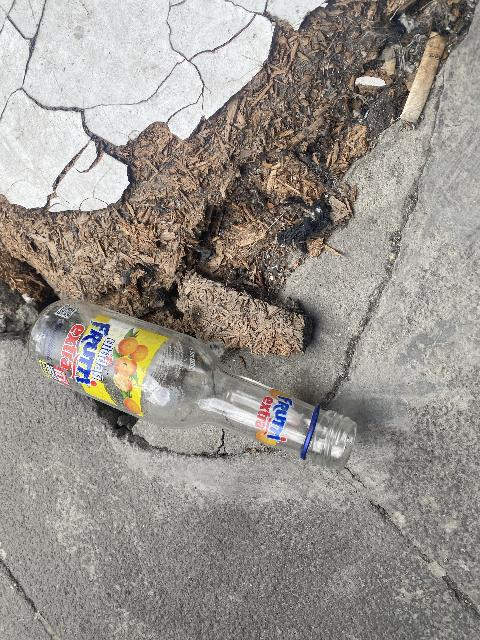Cam: (24, 302, 363, 470)
Metal: (300, 410, 322, 463)
Organik: (397, 25, 451, 132)
Plastik: (52, 316, 184, 402), (244, 379, 306, 444)
